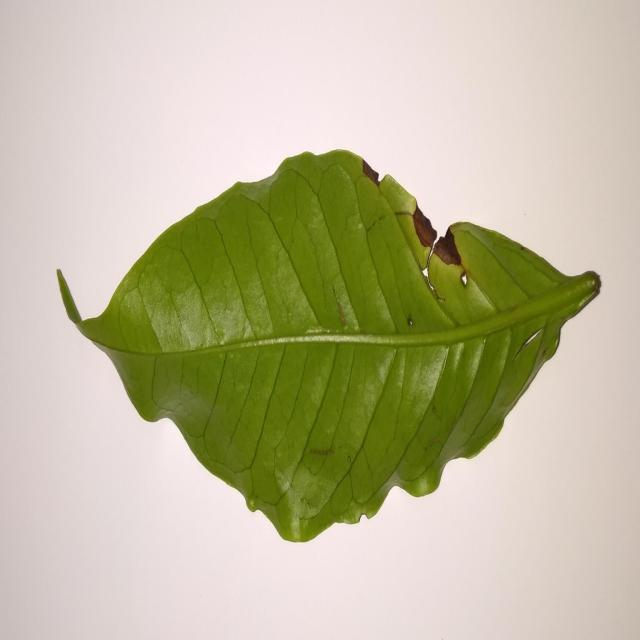Enfermedad-Antracnosis: (55, 150, 602, 546)
